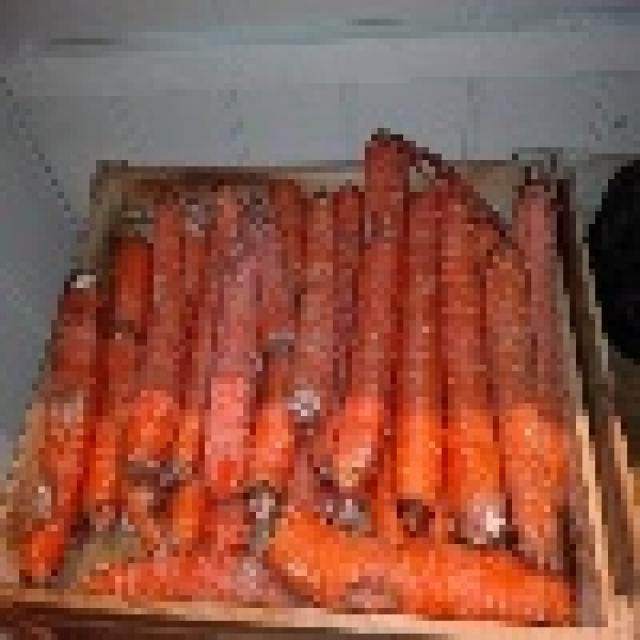Stale_Carrot: (253, 507, 592, 640), (334, 126, 409, 474), (62, 227, 115, 512), (209, 175, 253, 484)
